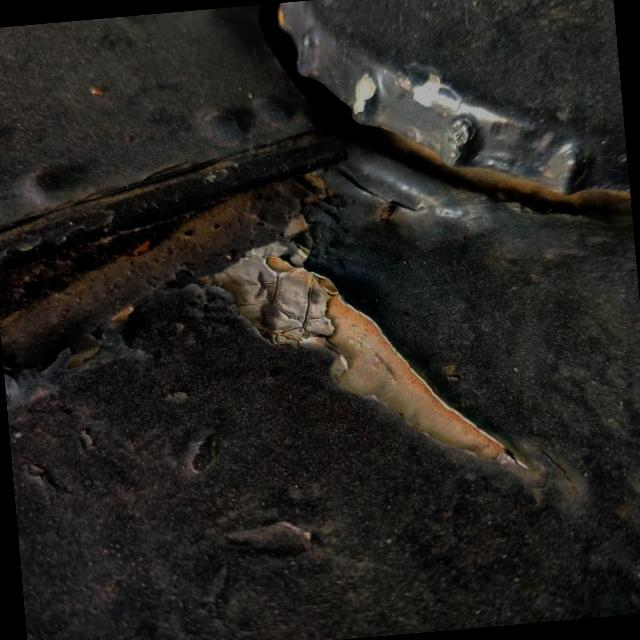paint-off: (192, 208, 552, 520)
